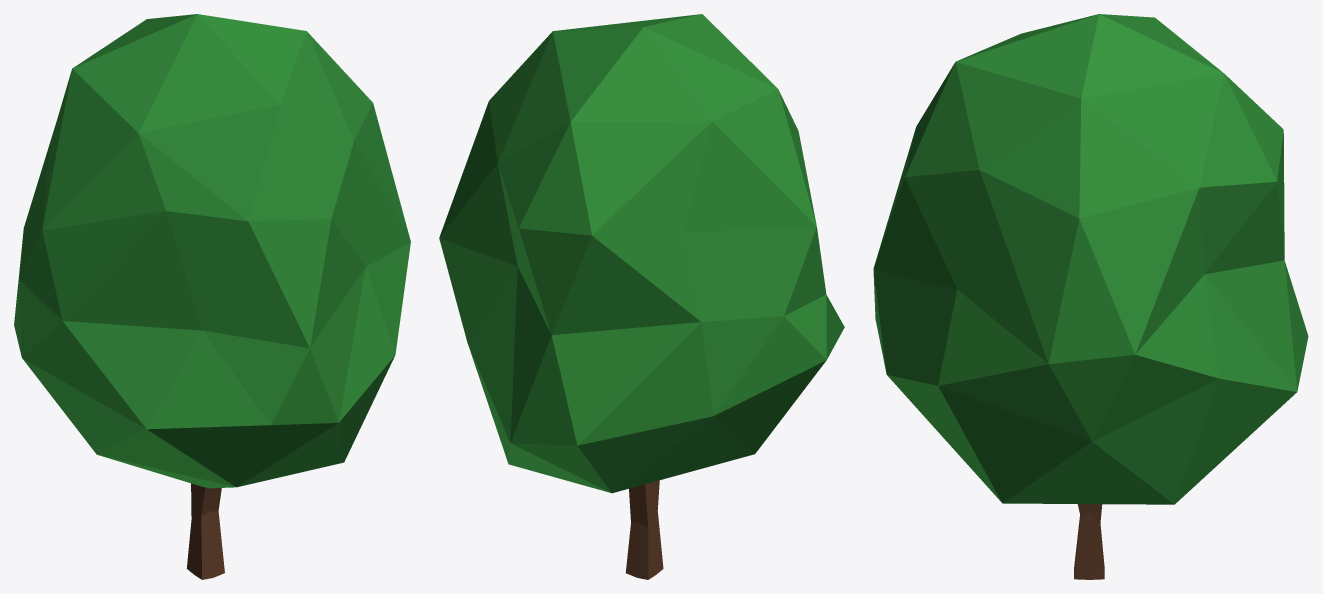
The model's file is Tree_2_Green.fbx.
3 views of the same model, side by side, from view 1: azimuth 30°, elevation 25°; view 2: azimuth 150°, elevation 25°; view 3: azimuth 270°, elevation 25° (orthographic).
Visible parts, largest first — view 1: Tree_2_Green_Part_1, Tree_2_Green_Part_2; view 2: Tree_2_Green_Part_1, Tree_2_Green_Part_2; view 3: Tree_2_Green_Part_1, Tree_2_Green_Part_2.
Boxes of the visible parts, x1=… form: Tree_2_Green_Part_1: x1=14, y1=14, x2=410, y2=488; Tree_2_Green_Part_2: x1=187, y1=483, x2=224, y2=579; Tree_2_Green_Part_1: x1=439, y1=14, x2=844, y2=493; Tree_2_Green_Part_2: x1=625, y1=480, x2=663, y2=579; Tree_2_Green_Part_1: x1=873, y1=14, x2=1308, y2=504; Tree_2_Green_Part_2: x1=1074, y1=504, x2=1104, y2=579.
Size of the model in its own units: 550 by 792 by 557.
